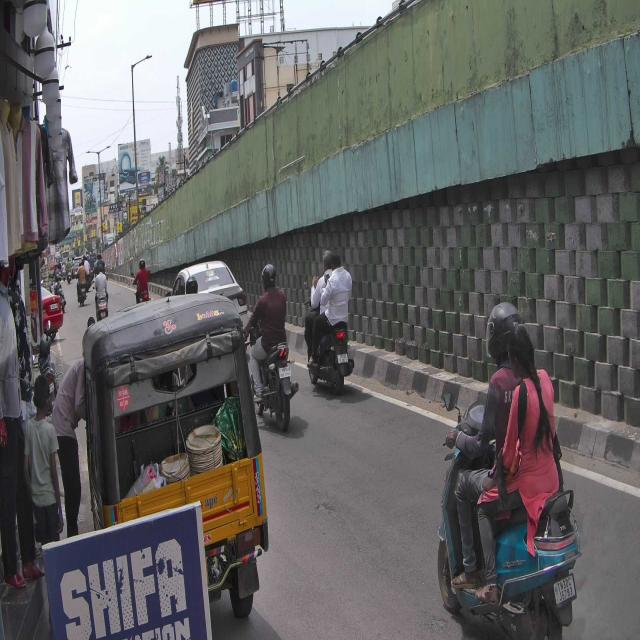double_rider: (434, 299, 581, 640), (302, 250, 357, 396)
single_rider: (244, 260, 300, 434)
